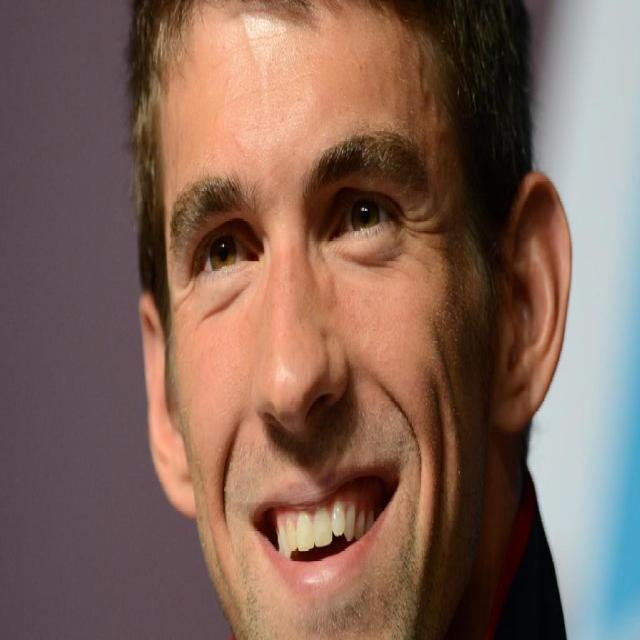nomask: (165, 22, 490, 638)
